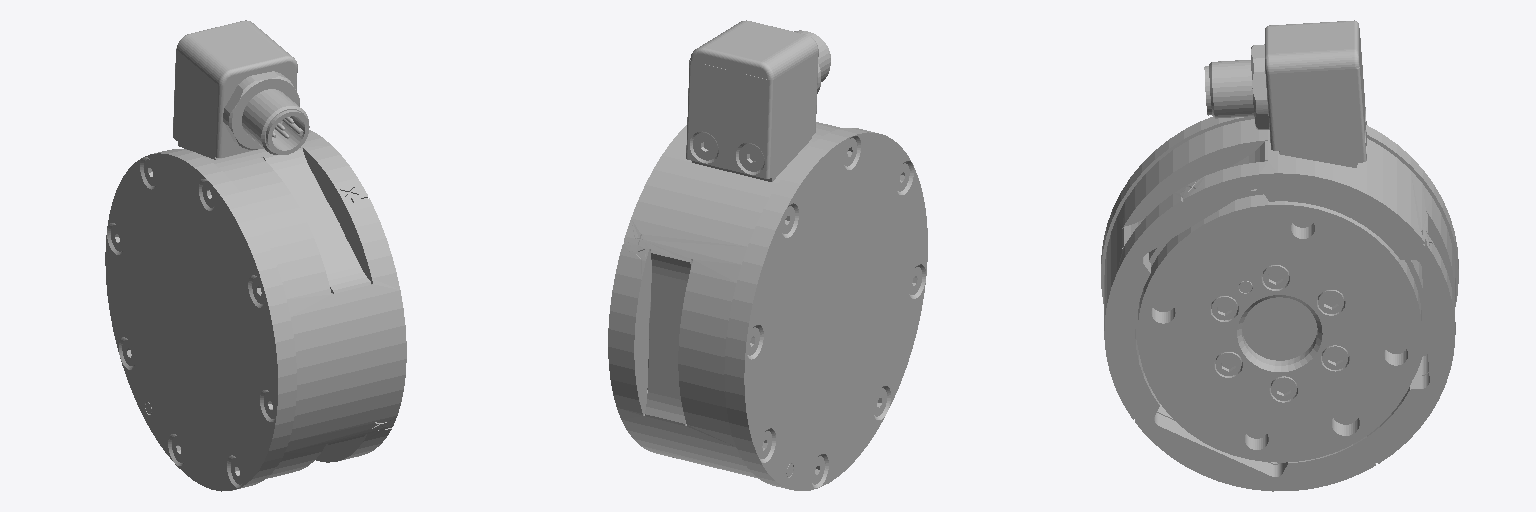
The robot description file, URDF, robot "fetch":
<robot name="fetch">
  <link name="base_link">
    <inertial>
      <origin rpy="0 0 0" xyz="-0.0036 0.0 0.0014" />
      <mass value="70.1294" />
      <inertia ixx="1.225" ixy="0.0099" ixz="0.0062" iyy="1.2853" iyz="-0.0034" izz="0.987" />
    </inertial>
    <visual>
      <origin rpy="0 0 0" xyz="0 0 0" />
      <geometry>
        <mesh filename="package://fetch_description/meshes/base_link.dae" />
      </geometry>
      <material name="">
        <color rgba="0.356 0.361 0.376 1" />
      </material>
    </visual>
    <collision>
      <origin rpy="0 0 0" xyz="0 0 0" />
      <geometry>
        <mesh filename="package://fetch_description/meshes/base_link_collision.STL" />
      </geometry>
    </collision>
  </link>
  <link name="r_wheel_link">
    <inertial>
      <origin rpy="0 0 0" xyz="0 0 0" />
      <mass value="4.3542" />
      <inertia ixx="0.0045" ixy="0" ixz="0" iyy="0.005" iyz="0" izz="0.0045" />
    </inertial>
    <visual>
      <origin rpy="0 0 0" xyz="0 0 0" />
      <geometry>
        <mesh filename="package://fetch_description/meshes/r_wheel_link.STL" />
      </geometry>
      <material name="">
        <color rgba="0.086 0.506 0.767 1" />
      </material>
    </visual>
    <collision>
      <origin rpy="0 0 0" xyz="0 0 0" />
      <geometry>
        <mesh filename="package://fetch_description/meshes/r_wheel_link_collision.STL" />
      </geometry>
    </collision>
  </link>
  <joint name="r_wheel_joint" type="continuous">
    <origin rpy="-6.123E-17 0 0" xyz="0.0012914 -0.18738 0.055325" />
    <parent link="base_link" />
    <child link="r_wheel_link" />
    <axis xyz="0 1 0" />
  <limit effort="8.85" velocity="17.4" /></joint>
  <link name="l_wheel_link">
    <inertial>
      <origin rpy="0 0 0" xyz="0 0 0" />
      <mass value="4.3542" />
      <inertia ixx="0.0045" ixy="0" ixz="0" iyy="0.005" iyz="0" izz="0.0045" />
    </inertial>
    <visual>
      <origin rpy="0 0 0" xyz="0 0 0" />
      <geometry>
        <mesh filename="package://fetch_description/meshes/l_wheel_link.STL" />
      </geometry>
      <material name="">
        <color rgba="0.086 0.506 0.767 1" />
      </material>
    </visual>
    <collision>
      <origin rpy="0 0 0" xyz="0 0 0" />
      <geometry>
        <mesh filename="package://fetch_description/meshes/l_wheel_link_collision.STL" />
      </geometry>
    </collision>
  </link>
  <joint name="l_wheel_joint" type="continuous">
    <origin rpy="-6.123E-17 0 0" xyz="0.0012914 0.18738 0.055325" />
    <parent link="base_link" />
    <child link="l_wheel_link" />
    <axis xyz="0 1 0" />
  <limit effort="8.85" velocity="17.4" /></joint>
  <link name="torso_lift_link">
    <inertial>
      <origin rpy="0 0 0" xyz="-0.0013 -0.0009 0.2935" />
      <mass value="10.7796" />
      <inertia ixx="0.3354" ixy="0.0" ixz="-0.0162" iyy="0.3354" iyz="-0.0006" izz="0.0954" />
    </inertial>
    <visual>
      <origin rpy="0 0 0" xyz="0 0 0" />
      <geometry>
        <mesh filename="package://fetch_description/meshes/torso_lift_link.dae" />
      </geometry>
      <material name="">
        <color rgba="1 1 1 1" />
      </material>
    </visual>
    <collision>
      <origin rpy="0 0 0" xyz="0 0 0" />
      <geometry>
        <mesh filename="package://fetch_description/meshes/torso_lift_link_collision.STL" />
      </geometry>
    </collision>
  </link>
  <joint name="torso_lift_joint" type="prismatic">
    <origin rpy="-6.123E-17 0 0" xyz="-0.086875 0 0.37743" />
    <parent link="base_link" />
    <child link="torso_lift_link" />
    <axis xyz="0 0 1" />
    <limit effort="450.0" lower="0" upper="0.38615" velocity="0.1" />
  <dynamics damping="100.0" /></joint>
  <link name="head_pan_link">
    <inertial>
      <origin rpy="0 0 0" xyz="0.0321 0.0161 0.0390" />
      <mass value="2.2556" />
      <inertia ixx="0.0129" ixy="0.0002" ixz="0.0007" iyy="0.0095" iyz="-0.0" izz="0.0184" />
    </inertial>
    <visual>
      <origin rpy="0 0 0" xyz="0 0 0" />
      <geometry>
        <mesh filename="package://fetch_description/meshes/head_pan_link.dae" />
      </geometry>
      <material name="">
        <color rgba="0.356 0.361 0.376 1" />
      </material>
    </visual>
    <collision>
      <origin rpy="0 0 0" xyz="0 0 0" />
      <geometry>
        <mesh filename="package://fetch_description/meshes/head_pan_link_collision.STL" />
      </geometry>
    </collision>
  </link>
  <joint name="head_pan_joint" type="revolute">
    <origin rpy="0 0 0" xyz="0.053125 0 0.603001417713939" />
    <parent link="torso_lift_link" />
    <child link="head_pan_link" />
    <axis xyz="0 0 1" />
  <limit effort="0.32" lower="-1.57" upper="1.57" velocity="1.57" /></joint>
  <link name="head_tilt_link">
    <inertial>
      <origin rpy="0 0 0" xyz="0.0081 0.0025 0.0113" />
      <mass value="0.9087" />
      <inertia ixx="0.0061" ixy="-0.0" ixz="0.0002" iyy="0.0014" iyz="-0.0001" izz="0.0061" />
    </inertial>
    <visual>
      <origin rpy="0 0 0" xyz="0 0 0" />
      <geometry>
        <mesh filename="package://fetch_description/meshes/head_tilt_link.dae" />
      </geometry>
      <material name="">
        <color rgba="0.086 0.506 0.767 1" />
      </material>
    </visual>
    <collision>
      <origin rpy="0 0 0" xyz="0 0 0" />
      <geometry>
        <mesh filename="package://fetch_description/meshes/head_tilt_link_collision.STL" />
      </geometry>
    </collision>
  </link>
  <joint name="head_tilt_joint" type="revolute">
    <origin rpy="0 0 0" xyz="0.14253 0 0.057999" />
    <parent link="head_pan_link" />
    <child link="head_tilt_link" />
    <axis xyz="0 1 0" />
    <limit effort="0.68" lower="-0.76" upper="1.45" velocity="1.57" />
  </joint>
  <link name="shoulder_pan_link">
    <inertial>
      <origin rpy="0 0 0" xyz="0.0927 -0.0056 0.0564" />
      <mass value="2.5587" />
      <inertia ixx="0.0043" ixy="-0.0001" ixz="0.001" iyy="0.0087" iyz="-0.0001" izz="0.0087" />
    </inertial>
    <visual>
      <origin rpy="0 0 0" xyz="0 0 0" />
      <geometry>
        <mesh filename="package://fetch_description/meshes/shoulder_pan_link.dae" />
      </geometry>
      <material name="">
        <color rgba="1 1 1 1" />
      </material>
    </visual>
    <collision>
      <origin rpy="0 0 0" xyz="0 0 0" />
      <geometry>
        <mesh filename="package://fetch_description/meshes/shoulder_pan_link_collision.STL" />
      </geometry>
    </collision>
  </link>
  <joint name="shoulder_pan_joint" type="revolute">
    <origin rpy="0 0 0" xyz="0.119525 0 0.34858" />
    <parent link="torso_lift_link" />
    <child link="shoulder_pan_link" />
    <axis xyz="0 0 1" />
    <dynamics damping="1.0" />
    <limit effort="33.82" lower="-1.6056" upper="1.6056" velocity="1.256" />
  </joint>
  <link name="shoulder_lift_link">
    <inertial>
      <origin rpy="0 0 0" xyz="0.1432 0.0072 -0.0001" />
      <mass value="2.6615" />
      <inertia ixx="0.0028" ixy="-0.0021" ixz="-0.0" iyy="0.0111" iyz="-0.0" izz="0.0112" />
    </inertial>
    <visual>
      <origin rpy="0 0 0" xyz="0 0 0" />
      <geometry>
        <mesh filename="package://fetch_description/meshes/shoulder_lift_link.dae" />
      </geometry>
      <material name="">
        <color rgba="0.086 0.506 0.767 1" />
      </material>
    </visual>
    <collision>
      <origin rpy="0 0 0" xyz="0 0 0" />
      <geometry>
        <mesh filename="package://fetch_description/meshes/shoulder_lift_link_collision.STL" />
      </geometry>
    </collision>
  </link>
  <joint name="shoulder_lift_joint" type="revolute">
    <origin rpy="0 0 0" xyz="0.117 0 0.0599999999999999" />
    <parent link="shoulder_pan_link" />
    <child link="shoulder_lift_link" />
    <axis xyz="0 1 0" />
    <dynamics damping="1.0" />
    <limit effort="131.76" lower="-1.221" upper="1.518" velocity="1.454" />
  </joint>
  <link name="upperarm_roll_link">
    <inertial>
      <origin rpy="0 0 0" xyz="0.1165 0.0014 0.0000" />
      <mass value="2.3311" />
      <inertia ixx="0.0019" ixy="-0.0001" ixz="0.0" iyy="0.0045" iyz="0.0" izz="0.0047" />
    </inertial>
    <visual>
      <origin rpy="0 0 0" xyz="0 0 0" />
      <geometry>
        <mesh filename="package://fetch_description/meshes/upperarm_roll_link.dae" />
      </geometry>
      <material name="">
        <color rgba="1 1 1 1" />
      </material>
    </visual>
    <collision>
      <origin rpy="0 0 0" xyz="0 0 0" />
      <geometry>
        <mesh filename="package://fetch_description/meshes/upperarm_roll_link_collision.STL" />
      </geometry>
    </collision>
  </link>
  <joint name="upperarm_roll_joint" type="revolute">
    <origin rpy="0 0 0" xyz="0.219 0 0" />
    <parent link="shoulder_lift_link" />
    <child link="upperarm_roll_link" />
    <axis xyz="1 0 0" />
    <dynamics damping="5.0" />
    <limit effort="76.94" lower="-3.05" upper="3.05" velocity="1.571" />
  </joint>
  <link name="elbow_flex_link">
    <inertial>
      <origin rpy="0 0 0" xyz="0.1279 0.0073 0.0000" />
      <mass value="2.1299" />
      <inertia ixx="0.0024" ixy="-0.0016" ixz="0.0" iyy="0.0082" iyz="-0.0" izz="0.0084" />
    </inertial>
    <visual>
      <origin rpy="0 0 0" xyz="0 0 0" />
      <geometry>
        <mesh filename="package://fetch_description/meshes/elbow_flex_link.dae" />
      </geometry>
      <material name="">
        <color rgba="0.086 0.506 0.767 1" />
      </material>
    </visual>
    <collision>
      <origin rpy="0 0 0" xyz="0 0 0" />
      <geometry>
        <mesh filename="package://fetch_description/meshes/elbow_flex_link_collision.STL" />
      </geometry>
    </collision>
  </link>
  <joint name="elbow_flex_joint" type="revolute">
    <origin rpy="0 0 0" xyz="0.133 0 0" />
    <parent link="upperarm_roll_link" />
    <child link="elbow_flex_link" />
    <axis xyz="0 1 0" />
    <dynamics damping="1.0" />
    <limit effort="66.18" lower="-2.251" upper="2.251" velocity="1.521" />
  </joint>
  <link name="forearm_roll_link">
    <inertial>
      <origin rpy="0 0 0" xyz="0.1097 -0.0266 0.0000" />
      <mass value="1.6563" />
      <inertia ixx="0.0016" ixy="-0.0003" ixz="0.0" iyy="0.003" iyz="-0.0" izz="0.0035" />
    </inertial>
    <visual>
      <origin rpy="0 0 0" xyz="0 0 0" />
      <geometry>
        <mesh filename="package://fetch_description/meshes/forearm_roll_link.dae" />
      </geometry>
      <material name="">
        <color rgba="1 1 1 1" />
      </material>
    </visual>
    <collision>
      <origin rpy="0 0 0" xyz="0 0 0" />
      <geometry>
        <mesh filename="package://fetch_description/meshes/forearm_roll_link_collision.STL" />
      </geometry>
    </collision>
  </link>
  <joint name="forearm_roll_joint" type="revolute">
    <origin rpy="0 0 0" xyz="0.197 0 0" />
    <parent link="elbow_flex_link" />
    <child link="forearm_roll_link" />
    <axis xyz="1 0 0" />
    <dynamics damping="5.0" />
    <limit effort="29.35" lower="-3.05" upper="3.05" velocity="1.571" />
  </joint>
  <link name="wrist_flex_link">
    <inertial>
      <origin rpy="0 0 0" xyz="0.0882 0.0009 -0.0001" />
      <mass value="1.725" />
      <inertia ixx="0.0018" ixy="-0.0001" ixz="-0.0" iyy="0.0042" iyz="0.0" izz="0.0042" />
    </inertial>
    <visual>
      <origin rpy="0 0 0" xyz="0 0 0" />
      <geometry>
        <mesh filename="package://fetch_description/meshes/wrist_flex_link.dae" />
      </geometry>
      <material name="">
        <color rgba="0.086 0.506 0.767 1" />
      </material>
    </visual>
    <collision>
      <origin rpy="0 0 0" xyz="0 0 0" />
      <geometry>
        <mesh filename="package://fetch_description/meshes/wrist_flex_link_collision.STL" />
      </geometry>
    </collision>
  </link>
  <joint name="wrist_flex_joint" type="revolute">
    <origin rpy="0 0 0" xyz="0.1245 0 0" />
    <parent link="forearm_roll_link" />
    <child link="wrist_flex_link" />
    <axis xyz="0 1 0" />
    <dynamics damping="1.0" />
    <limit effort="25.7" lower="-2.16" upper="2.16" velocity="2.268" />
  </joint>


  <link name="wrist_roll_link">
    <inertial>
      <origin rpy="0 0 0" xyz="0.0095 0.0004 -0.0002" />
      <mass value="0.1354" />
      <inertia ixx="0.0001" ixy="0.0" ixz="0.0" iyy="0.0001" iyz="0.0" izz="0.0001" />
    </inertial>
    <visual>
      <origin rpy="0 0 0" xyz="0 0 0" />
      <geometry>
        <mesh filename="package://fetch_description/meshes/wrist_roll_link.dae" />
      </geometry>
      <material name="">
        <color rgba="1 1 1 1" />
      </material>
    </visual>
    <collision>
      <origin rpy="0 0 0" xyz="0 0 0" />
      <geometry>
        <mesh filename="package://fetch_description/meshes/wrist_roll_link_collision.STL" />
      </geometry>
    </collision>
  </link>


  <joint name="wrist_roll_joint" type="revolute">
    <origin rpy="0 0 0" xyz="0.1385 0 0" />
    <parent link="wrist_flex_link" />
    <child link="wrist_roll_link" />
    <axis xyz="1 0 0" />
    <limit effort="7.36" lower="-3.05" upper="3.05" velocity="2.268" />
    <dynamics damping="5.0" />
  </joint>

  <link name="ati_link">
    <inertial>
      <origin rpy="0 0 0" xyz="0.01665 0 0 " />
      <mass value="0.255" />
      <inertia ixx="0.0001" ixy="0.0" ixz="0.0" iyy="0.0001" iyz="0.0" izz="0.0001" />
    </inertial>
    <visual>
      <origin rpy="0 -1.5708 0" xyz="0 0 0 " />
      <geometry>
        <mesh filename="package://fetch_description/meshes/ati_sensor.stl" />
      </geometry>
      <material name="">
        <color rgba="0.75 0.75 0.75 1" />
      </material>
    </visual>
    <collision>
      <origin rpy="0 1.5708 0" xyz="-0.01665 0 0" />
      <geometry>
        <cylinder length="0.0333" radius="0.063"/>
      </geometry>
    </collision>
  </link>

  <joint name="ati_axis" type="fixed">
    <origin rpy="-0.8287 0 0" xyz="0.0523 0 0" />
    <parent link="wrist_roll_link" />
    <child link="ati_link" />
    <axis xyz="0 0 0" />
  </joint>


  <link name="gripper_link">
    <inertial>
      <origin rpy="0 0 0" xyz="-0.0900 -0.0001 -0.0017" /> <!-- May require change!-->
      <mass value="1.5175" />
      <inertia ixx="0.0013" ixy="-0.0" ixz="0.0" iyy="0.0019" iyz="-0.0" izz="0.0024" />
    </inertial>
    <visual>
      <origin rpy="0 0 0" xyz="0 0 0" />
      <geometry>
        <mesh filename="package://fetch_description/meshes/gripper_link.dae" />
      </geometry>
    </visual>
    <collision>
      <origin rpy="0 0 0" xyz="0 0 0" />
      <geometry>
        <mesh filename="package://fetch_description/meshes/gripper_link.STL" />
      </geometry>
    </collision>
  </link>

  <joint name="gripper_axis" type="fixed">
    <origin rpy="0 0 0" xyz="0.14745 0 0" />
    <parent link="ati_link" />
    <child link="gripper_link" />
    <axis xyz="0 1 0" />

  </joint>
    <link name="finger_tip_link">
  </link>
  
  <joint name="finger_tip_axis" type="fixed">
    <origin rpy="0 0 0" xyz="0.10 0 0" />
    <parent link="gripper_link" />
    <child link="finger_tip_link" />
  </joint>

  <link name="r_gripper_finger_link">
    <inertial>
      <origin rpy="0 1.5708 0" xyz="-0.01 0 0" />
      <mass value="0.0798" />
      <inertia ixx="0.002" ixy="0" ixz="0" iyy="0" iyz="0" izz="0" />
    </inertial>
    <visual>
      <origin rpy="0 1.5708 0" xyz="-0.035 -0.005 0" />
      <geometry>
        <mesh filename="package://fetch_description/meshes/fingers/simplified_1/r_finger.stl" />
      </geometry>
      <material name="">
        <color rgba="0.356 0.361 0.376 1" />
      </material>
    </visual>
    <collision>
      <origin rpy="0 1.5708 0" xyz="-0.035 -0.005 0" />
      <geometry>
        <mesh filename="package://fetch_description/meshes/fingers/simplified_1/r_finger.stl" />
      </geometry>
    </collision>
  </link>
  <joint name="r_gripper_finger_joint" type="prismatic">
    <origin rpy="0 0 0" xyz="0 0.015425 0" />
    <parent link="gripper_link" />
    <child link="r_gripper_finger_link" />
    <axis xyz="0 1 0" />
  <limit effort="60" lower="0.0" upper="0.05" velocity="0.05" /><dynamics damping="100.0" /></joint>


  <link name="l_gripper_finger_link">
    <inertial>
      <origin rpy="0 1.5708 0" xyz="-0.01 0 0" />
      <mass value="0.0798" />
      <inertia ixx="0.002" ixy="0" ixz="0" iyy="0" iyz="0" izz="0" />
    </inertial>
    <visual>
      <origin rpy="0 1.5708 0" xyz="-0.035 0.005 0" />
      <geometry>
        <mesh filename="package://fetch_description/meshes/fingers/simplified_1/l_finger.stl" />
      </geometry>
      <material name="">
        <color rgba="0.356 0.361 0.376 1" />
      </material>
    </visual>
    <collision>
      <origin rpy="0 1.5708 0" xyz="-0.035 0.005 0" />
      <geometry>
        <mesh filename="package://fetch_description/meshes/fingers/simplified_1/l_finger.stl" />
      </geometry>
    </collision>
  </link>
  <joint name="l_gripper_finger_joint" type="prismatic">
    <origin rpy="0 0 0" xyz="0 -0.015425 0" />
    <parent link="gripper_link" />
    <child link="l_gripper_finger_link" />
    <axis xyz="0 -1 0" />
  <limit effort="60" lower="0.0" upper="0.05" velocity="0.05" /><dynamics damping="100.0" /></joint>
  <link name="bellows_link">
    <inertial>
      <origin rpy="0 0 0" xyz="0.0191320000286228 -1.67219873481315E-16 -0.134861625443387" />
      <mass value="0.169374038216602" />
      <inertia ixx="0.00331159128762117" ixy="-8.9230964321455E-18" ixz="-5.38622201018293E-08" iyy="0.00174447292786627" iyz="-8.06964979976371E-17" izz="0.00169417568121457" />
    </inertial>
    <visual>
      <origin rpy="0 0 0" xyz="0 0 0" />
      <geometry>
        <mesh filename="package://fetch_description/meshes/bellows_link.STL" />
      </geometry>
      <material name="">
        <color rgba="0 0 0 1" />
      </material>
    </visual>
    <collision>
      <origin rpy="0 0 0" xyz="0 0 0" />
      <geometry>
        <mesh filename="package://fetch_description/meshes/bellows_link_collision.STL" />
      </geometry>
    </collision>
  </link>
  <joint name="bellows_joint" type="prismatic">
    <origin rpy="0 0 0" xyz="0 0 0" />
    <parent link="torso_lift_link" />
    <child link="bellows_link" />
    <axis xyz="0 0 -1" />
  <limit effort="5.0" lower="0" upper="0.4" velocity="0.1" /></joint>
  <link name="bellows_link2">
    <inertial>
      <origin rpy="0 0 0" xyz="0.0191320000286228 -1.67219873481315E-16 -0.134861625443387" />
      <mass value="0.169374038216602" />
      <inertia ixx="0.00331159128762117" ixy="-8.9230964321455E-18" ixz="-5.38622201018293E-08" iyy="0.00174447292786627" iyz="-8.06964979976371E-17" izz="0.00169417568121457" />
    </inertial>
    <visual>
      <origin rpy="0 0 0" xyz="0 0 0" />
      <geometry>
        <mesh filename="package://fetch_description/meshes/bellows_link.STL" />
      </geometry>
      <material name="">
        <color rgba="0 0 0 1" />
      </material>
    </visual>
    <collision>
      <origin rpy="0 0 0" xyz="0 0 0" />
      <geometry>
        <mesh filename="package://fetch_description/meshes/bellows_link_collision.STL" />
      </geometry>
    </collision>
  </link>
  <joint name="bellows_joint2" type="fixed">
    <origin rpy="0 0 0" xyz="0 0 0" />
    <parent link="torso_lift_link" />
    <child link="bellows_link2" />
  </joint>
  <link name="estop_link">
    <inertial>
      <origin rpy="0 0 0" xyz="0.002434512737072 -0.00330608315239905 0.00665139196650039" />
      <mass value="0.00196130439134723" />
      <inertia ixx="3.02810026604417E-07" ixy="-1.5862023118056E-08" ixz="3.16561396557437E-08" iyy="2.93322917127605E-07" iyz="-4.28833522751273E-08" izz="2.28513272627183E-07" />
    </inertial>
    <visual>
      <origin rpy="0 0 0" xyz="0 0 0" />
      <geometry>
        <mesh filename="package://fetch_description/meshes/estop_link.dae" />
      </geometry>
      <material name="">
        <color rgba="0.8 0 0 1" />
      </material>
    </visual>
    <collision>
      <origin rpy="0 0 0" xyz="0 0 0" />
      <geometry>
        <mesh filename="package://fetch_description/meshes/estop_link.STL" />
      </geometry>
    </collision>
  </link>
  <joint name="estop_joint" type="fixed">
    <origin rpy="1.5708 0 0" xyz="-0.12465 0.23892 0.31127" />
    <parent link="base_link" />
    <child link="estop_link" />
    <axis xyz="0 0 0" />
  </joint>
  <link name="laser_link">
    <inertial>
      <origin rpy="0 0 0" xyz="-0.0306228970175641 0.0007091682908278 0.0551974119471302" />
      <mass value="0.00833634573995571" />
      <inertia ixx="1.01866461240801E-06" ixy="-5.88447626567756E-08" ixz="7.83857244757914E-08" iyy="5.10039589974707E-07" iyz="-7.12664289617235E-09" izz="1.28270671527309E-06" />
    </inertial>
    <visual>
      <origin rpy="0 0 0" xyz="0 0 0" />
      <geometry>
        <mesh filename="package://fetch_description/meshes/laser_link.STL" />
      </geometry>
      <material name="">
        <color rgba="0.792156862745098 0.819607843137255 0.933333333333333 1" />
      </material>
    </visual>
    <collision>
      <origin rpy="0 0 0" xyz="0 0 0" />
      <geometry>
        <mesh filename="package://fetch_description/meshes/laser_link.STL" />
      </geometry>
    </collision>
  </link>
  <joint name="laser_joint" type="fixed">
    <origin rpy="3.14159265359 0 0" xyz="0.235 0 0.2878" />
    <parent link="base_link" />
    <child link="laser_link" />
    <axis xyz="0 0 0" />
  </joint>
  <link name="torso_fixed_link">
    <inertial>
      <origin rpy="0 0 0" xyz="-0.0722 0.0057 0.2656" />
      <mass value="13.2775" />
      <inertia ixx="0.3861" ixy="0.0015" ixz="-0.0102" iyy="0.3388" iyz="0.0117" izz="0.1018" />
    </inertial>
    <visual>
      <origin rpy="0 0 0" xyz="0 0 0" />
      <geometry>
        <mesh filename="package://fetch_description/meshes/torso_fixed_link.dae" />
      </geometry>
      <material name="">
        <color rgba="0.086 0.506 0.767 1" />
      </material>
    </visual>
    <collision>
      <origin rpy="0 0 0" xyz="0 0 0" />
      <geometry>
        <mesh filename="package://fetch_description/meshes/torso_fixed_link.STL" />
      </geometry>
    </collision>
  </link>
  <joint name="torso_fixed_joint" type="fixed">
    <origin rpy="-6.12303176911189E-17 0 0" xyz="-0.086875 0 0.377425" />
    <parent link="base_link" />
    <child link="torso_fixed_link" />
    <axis xyz="0 1 0" />
  </joint>
  <link name="head_camera_link" />
  <joint name="head_camera_joint" type="fixed">
    <origin rpy="0 0 0" xyz="0.055 0 0.0225" />
    <parent link="head_tilt_link" />
    <child link="head_camera_link" />
  </joint>
  <link name="head_camera_rgb_frame" />
  <joint name="head_camera_rgb_joint" type="fixed">
    <origin rpy="0 0 0" xyz="0 0.02 0" />
    <parent link="head_camera_link" />
    <child link="head_camera_rgb_frame" />
  </joint>
  <link name="head_camera_rgb_optical_frame" />
  <joint name="head_camera_rgb_optical_joint" type="fixed">
    <origin rpy="-1.57079632679 0 -1.57079632679" xyz="0 0 0" />
    <parent link="head_camera_rgb_frame" />
    <child link="head_camera_rgb_optical_frame" />
  </joint>
  <link name="head_camera_depth_frame" />
  <joint name="head_camera_depth_joint" type="fixed">
    <origin rpy="0 0 0" xyz="0 0.045 0" />
    <parent link="head_camera_link" />
    <child link="head_camera_depth_frame" />
  </joint>
  <link name="head_camera_depth_optical_frame" />
  <joint name="head_camera_depth_optical_joint" type="fixed">
    <origin rpy="-1.57079632679 0 -1.57079632679" xyz="0 0 0" />
    <parent link="head_camera_depth_frame" />
    <child link="head_camera_depth_optical_frame" />
  </joint>
</robot>

--- What the picture shows (computed from the rendered views, not written in the file) ---
3 views of the same robot in one strip: view 1: azimuth 30°, elevation 25°; view 2: azimuth 150°, elevation 25°; view 3: azimuth 270°, elevation 25° (orthographic).
Robot: fetch — 28 links, 27 joints (9 revolute, 2 continuous, 4 prismatic, 12 fixed); root link base_link; default pose: every joint at zero.
Visible links, largest first — view 1: ati_link; view 2: ati_link; view 3: ati_link.
Link boxes in pixels (x1,y1,x2,y2): ati_link: (105, 20, 406, 491); ati_link: (608, 20, 927, 490); ati_link: (1101, 20, 1458, 491).
Bounding box of the posed robot: 0.0333 × 0.0754 × 0.0987 m (x, y, z).
Meshes: 21 distinct files referenced, 1 mesh visuals loaded (1 binary STL); not drawn: 21 (reference not matched to a file when rendering).